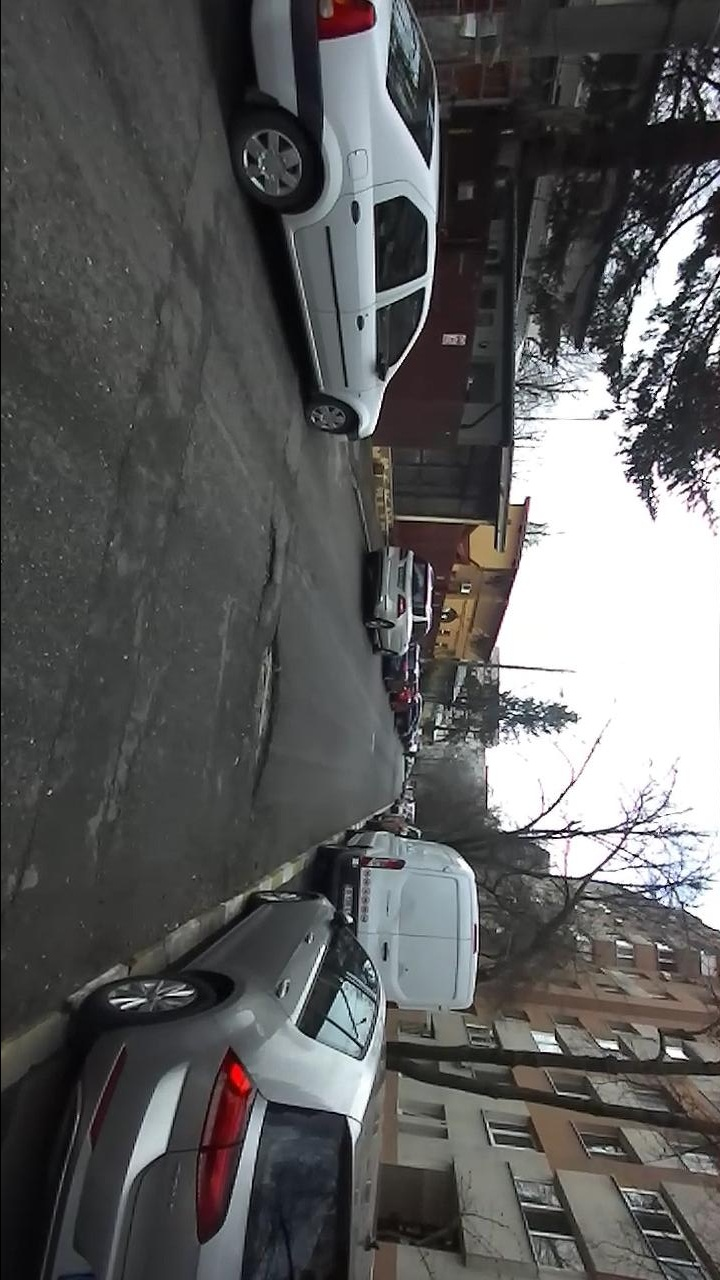pothole: (242, 627, 284, 807), (256, 515, 280, 603)
